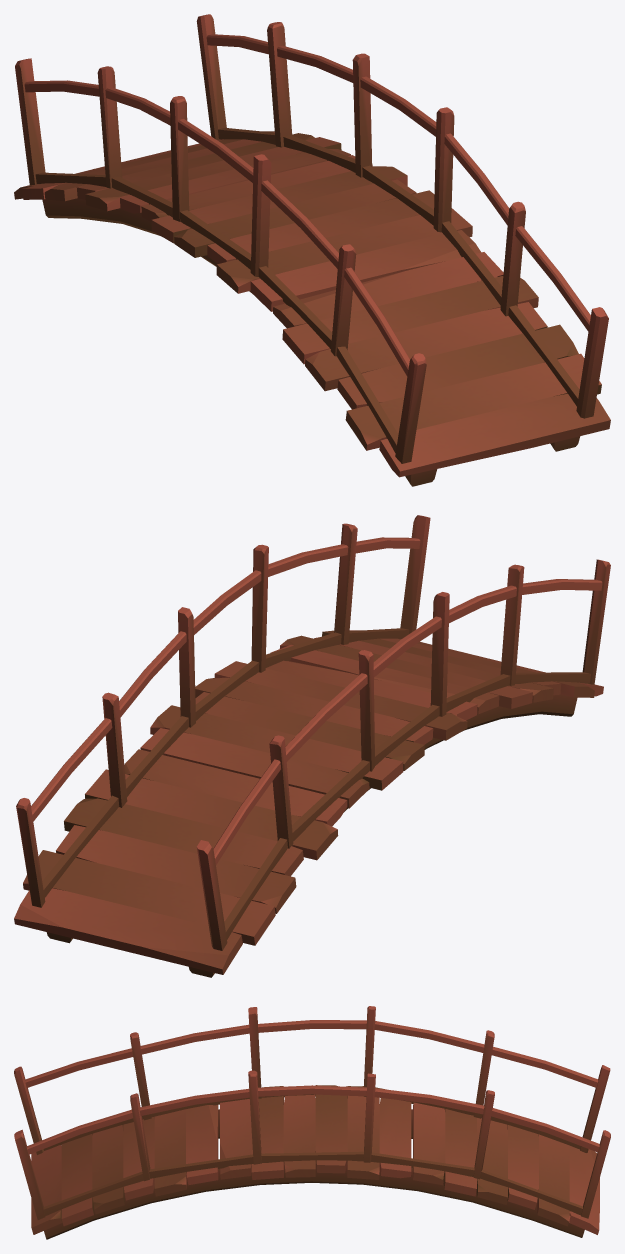
Rendered from BridgeWood.fbx.
3 renders of one model, top to bottom at view 1: azimuth 30°, elevation 25°; view 2: azimuth 150°, elevation 25°; view 3: azimuth 270°, elevation 25°, orthographic. The views are drawn at different scales.
Visible parts, largest first — view 1: WoodenBridge_Bent; view 2: WoodenBridge_Bent; view 3: WoodenBridge_Bent.
Boxes of the visible parts, left/top/right/bottom form: WoodenBridge_Bent: left=14, top=14, right=610, bottom=486; WoodenBridge_Bent: left=14, top=515, right=610, bottom=977; WoodenBridge_Bent: left=14, top=1006, right=610, bottom=1239.
Bounding box in the file's own units: 2.35 × 2.23 × 7.06.
Materials: 1 (1 with a texture image).
